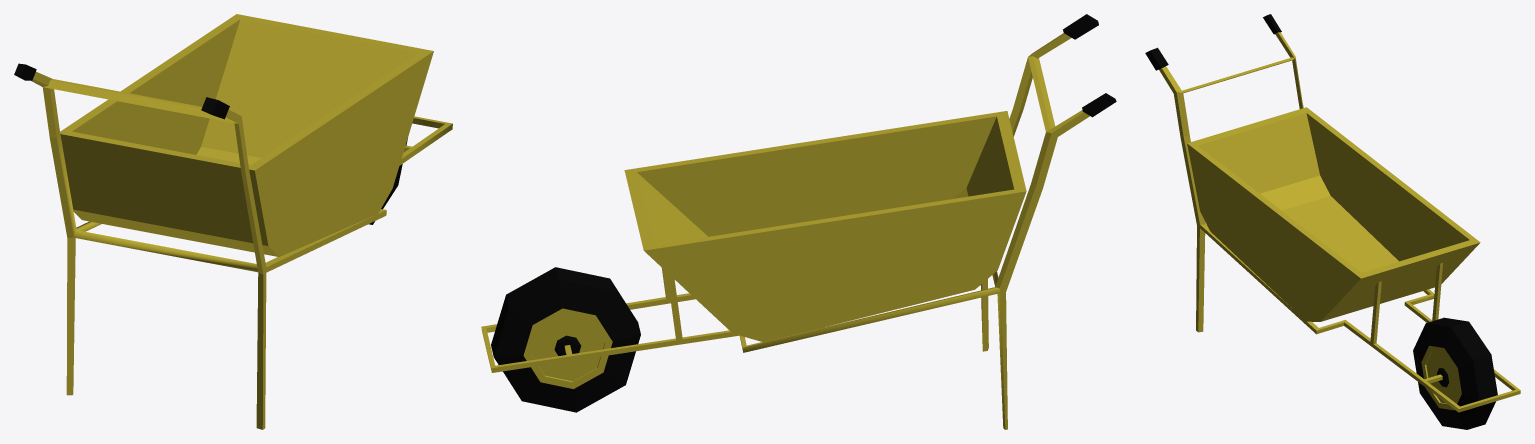
Rendered from Wheelbarrow.fbx.
3 renders of one model, left to right at view 1: azimuth 30°, elevation 25°; view 2: azimuth 150°, elevation 25°; view 3: azimuth 270°, elevation 25°, orthographic. The views are drawn at different scales.
Parts seen in each view (by area): view 1: Wheelbarrow; view 2: Wheelbarrow; view 3: Wheelbarrow.
Part boxes in pixels (x1=…): Wheelbarrow: x1=14, y1=14, x2=452, y2=429; Wheelbarrow: x1=481, y1=14, x2=1116, y2=429; Wheelbarrow: x1=1145, y1=14, x2=1520, y2=429.
Size of the model in its own units: 251 by 207 by 156.
